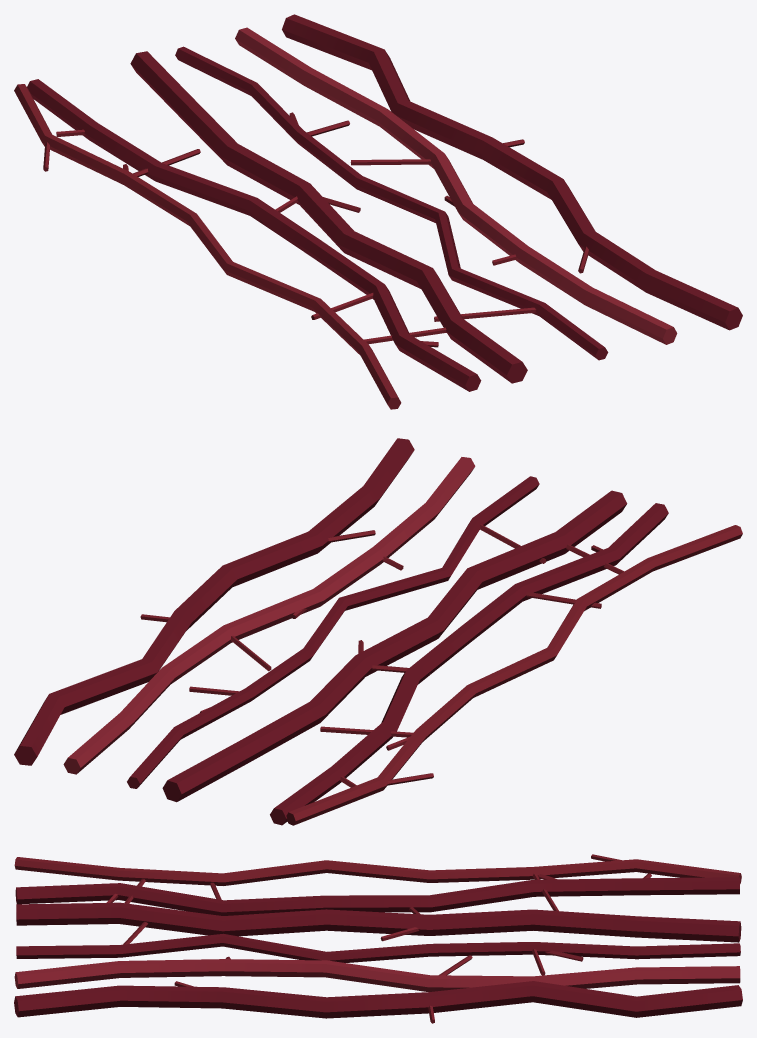
The model's file is vein_patch.glb.
3 views of the same model, one above another, from view 1: azimuth 30°, elevation 25°; view 2: azimuth 150°, elevation 25°; view 3: azimuth 270°, elevation 25° (orthographic). The views are drawn at different scales.
Parts seen in each view (by area): view 1: vein_patch; view 2: vein_patch; view 3: vein_patch.
Boxes of the visible parts, x1,y1,x2,y2 form: vein_patch: [14, 14, 742, 409]; vein_patch: [14, 438, 742, 825]; vein_patch: [14, 854, 742, 1023].
Bounding box in the file's own units: 5.51 × 0.3012 × 10.23.
